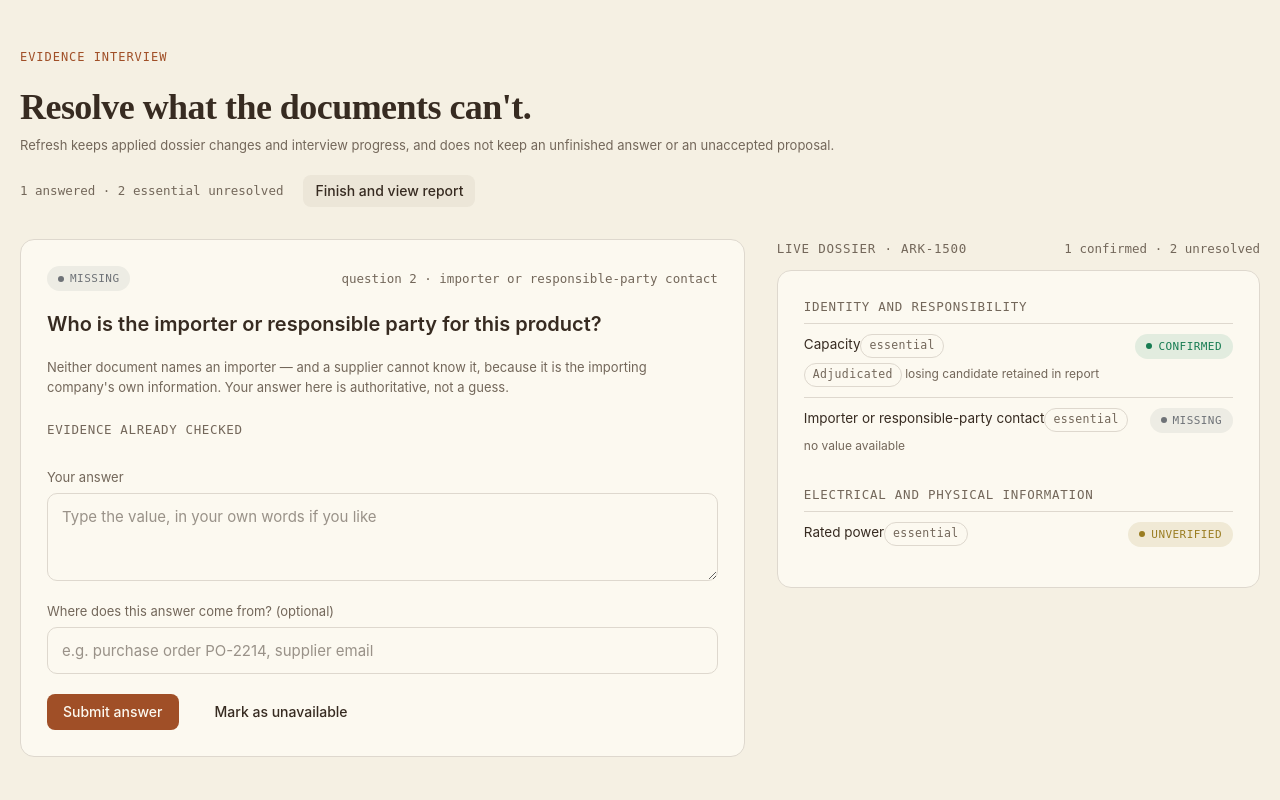
Test: InterviewWorkspace interpretation › shows malformed message and one-field sentence when interpret returns no proposals
The width and height of the screenshot is (1280, 800).
Type "Acme Imports GmbH — rated power should be 2200 W" into the text box labelled "Your answer" at (382,537), box [47,493,718,581]
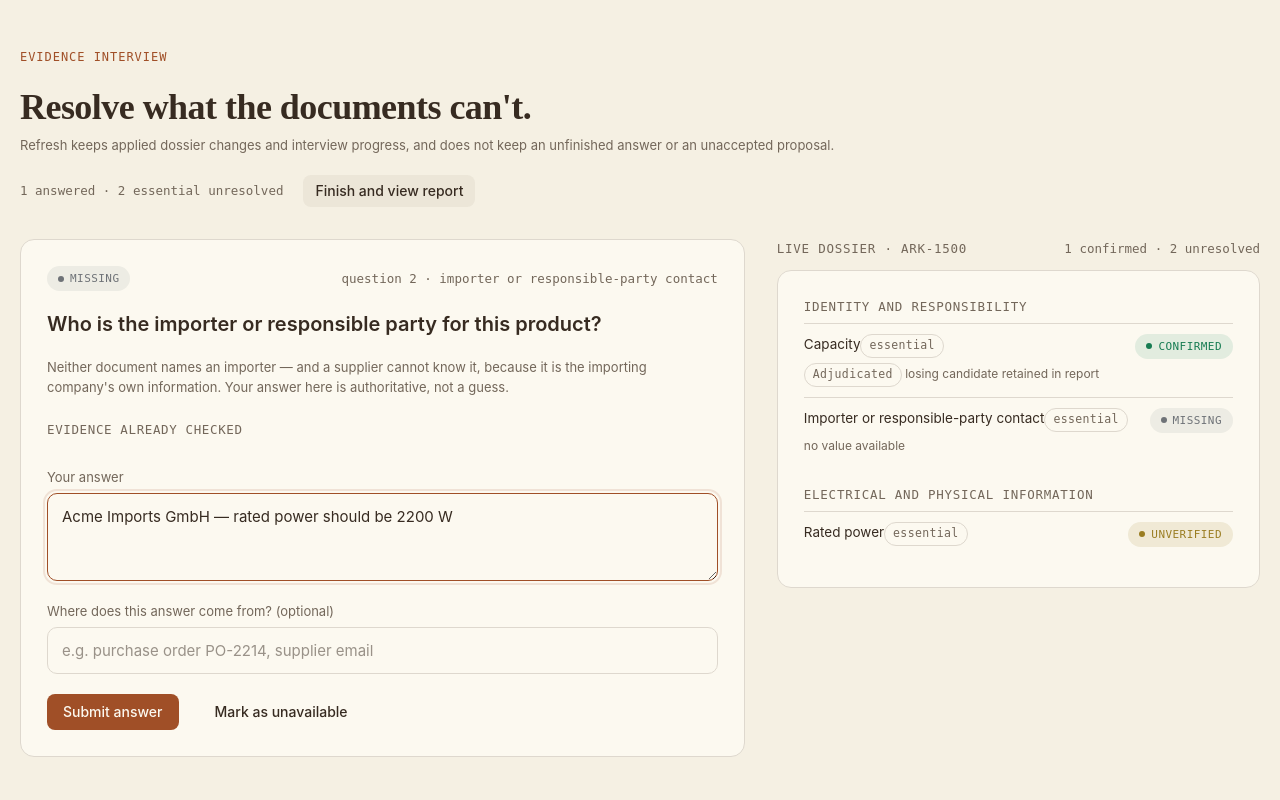
Click the button "Submit answer" at (113,712), box [47,694,178,730]
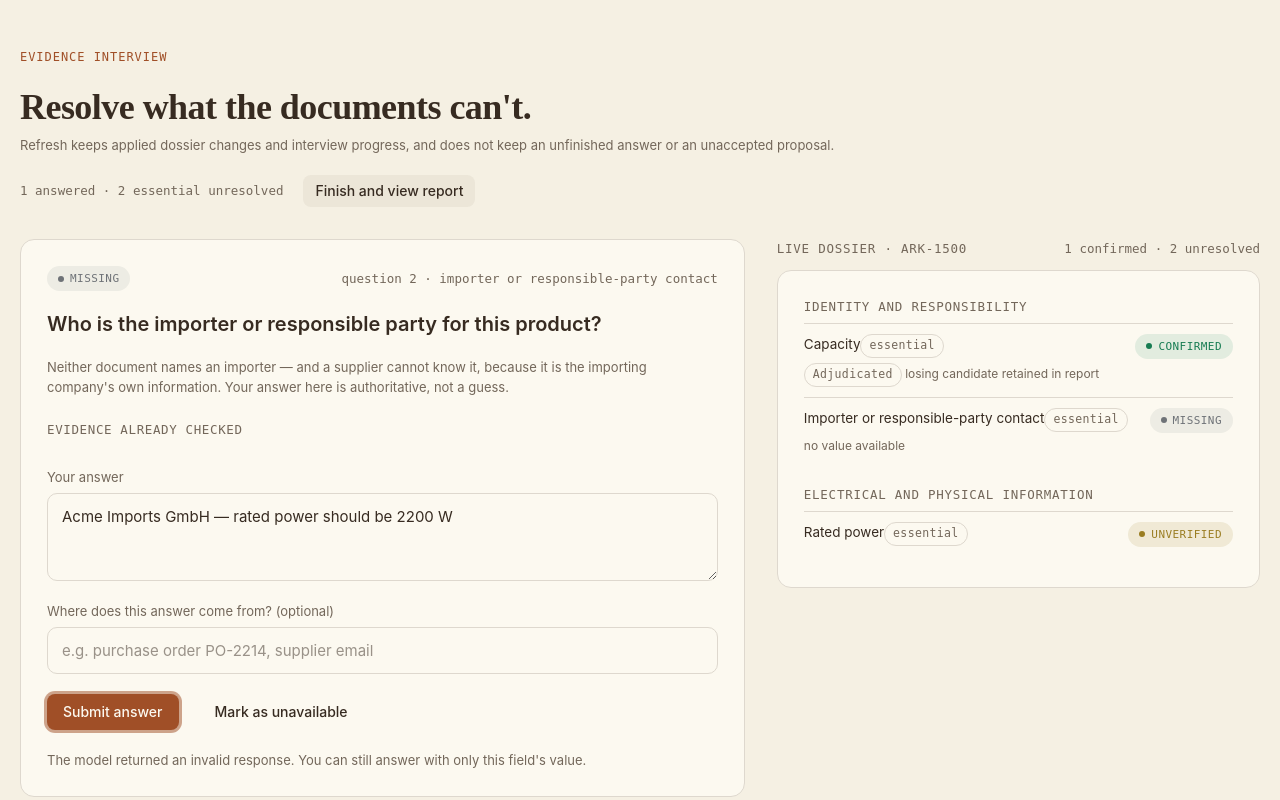
Check: the message shows "The model returned an invalid response.", box [47,752,586,768]
Check: the message shows "You can still answer with only this field's value.", box [47,752,586,768]
